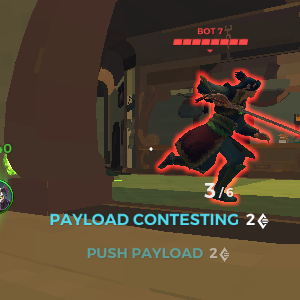model: (159, 64, 266, 204)
